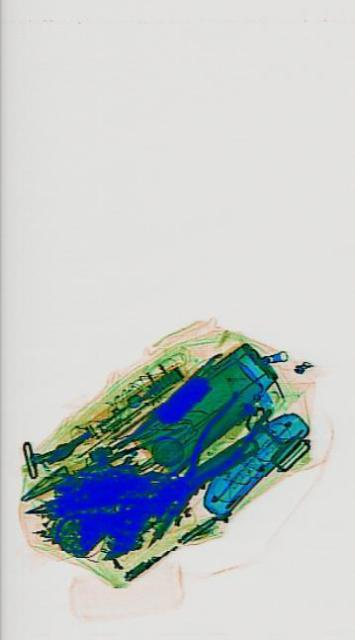Pliers: (152, 364, 273, 532)
